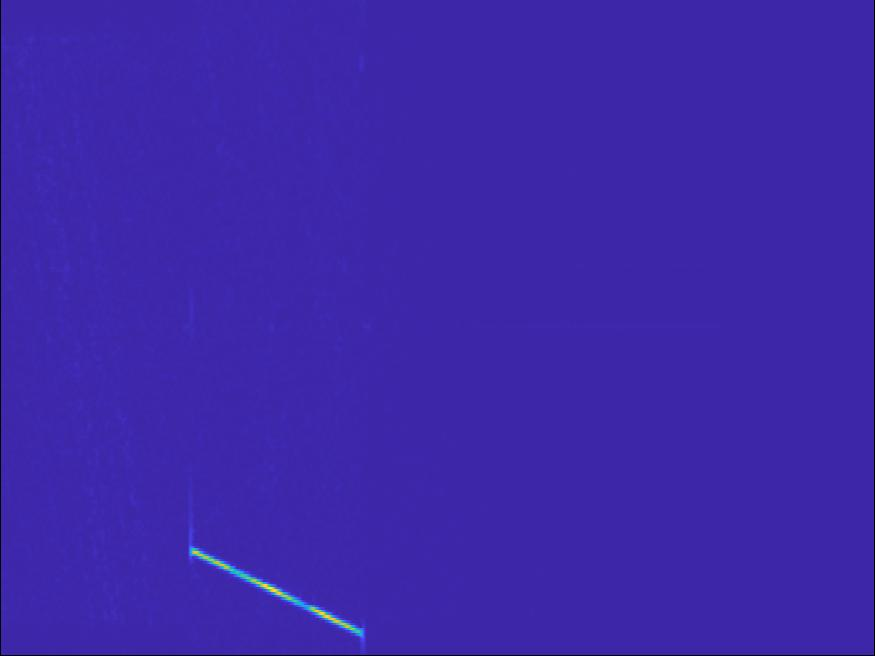Interference: (743, 362, 839, 408)
